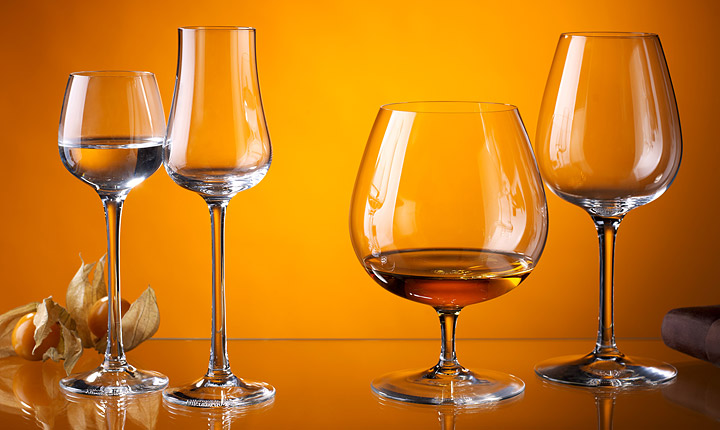Nonrec_Glass: (359, 77, 537, 405), (536, 22, 684, 401), (160, 17, 297, 414), (53, 46, 167, 407)
